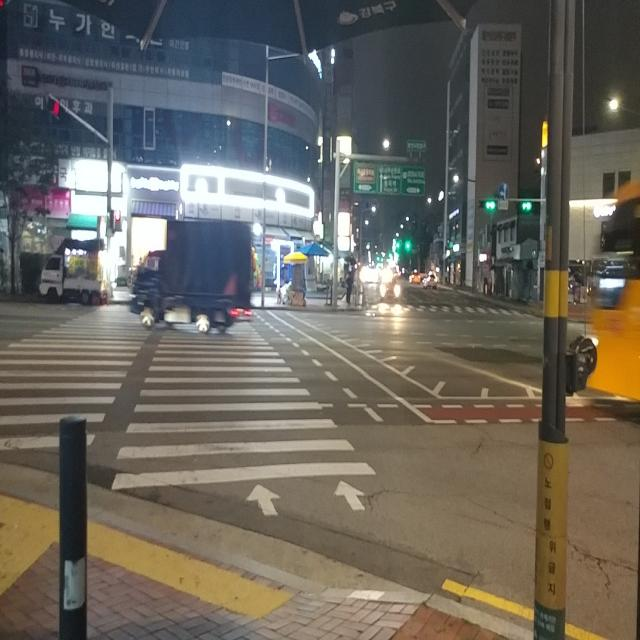횡단보도: (0, 300, 377, 518), (365, 302, 529, 319)
